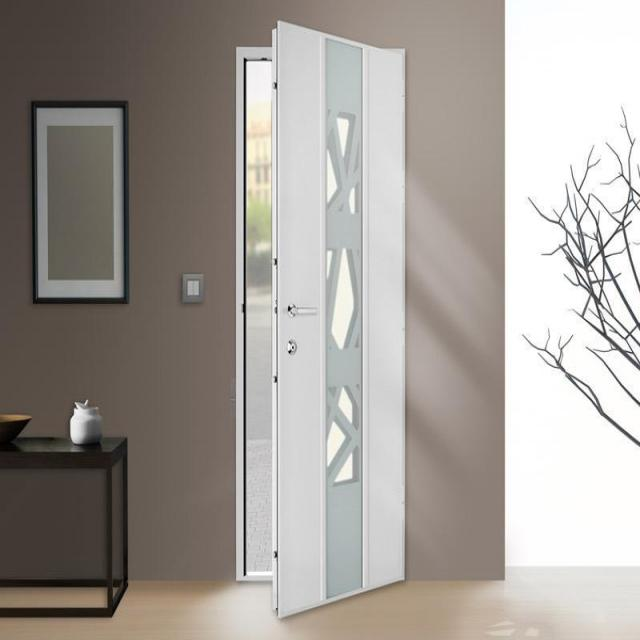semi-open: (228, 16, 413, 628)
